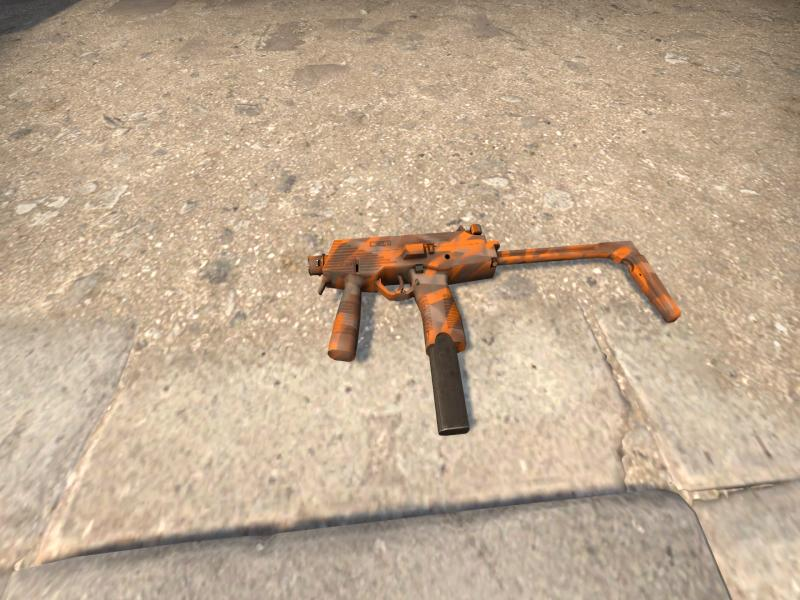MP9: (309, 223, 681, 436)
